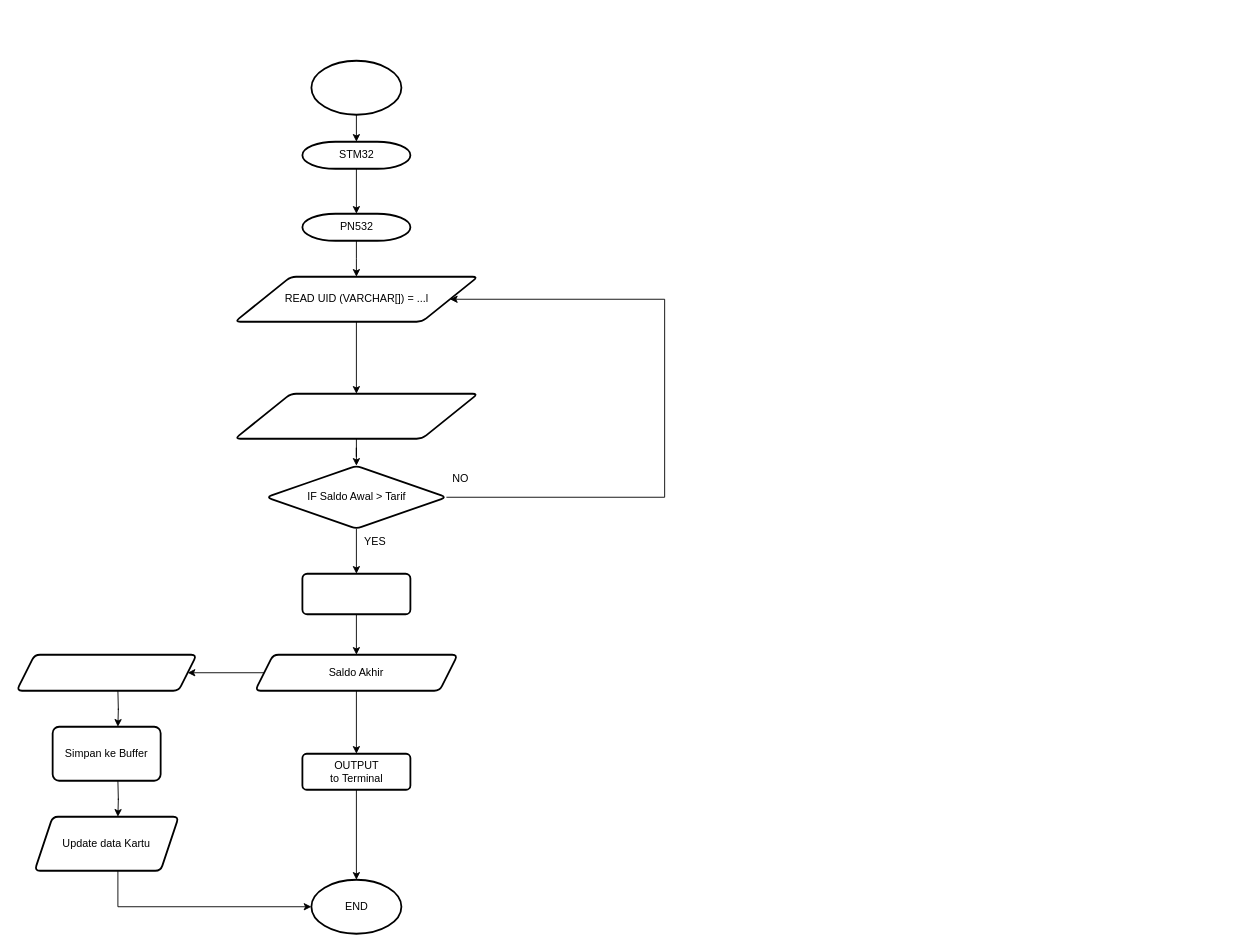
The diagram is 1238 pixels wide and 950 high, and some of its shapes have lost their labels. The box of each missing label's shape, as (x1, y1, x2, y2) in pixels:
READ UID (VARCHAR[]) = ... Read Saldo Awal: (234, 392, 478, 439)
Saldo awal - Tarif: (301, 572, 411, 615)
Saldo Update: (15, 653, 197, 691)
START: (310, 59, 402, 115)
